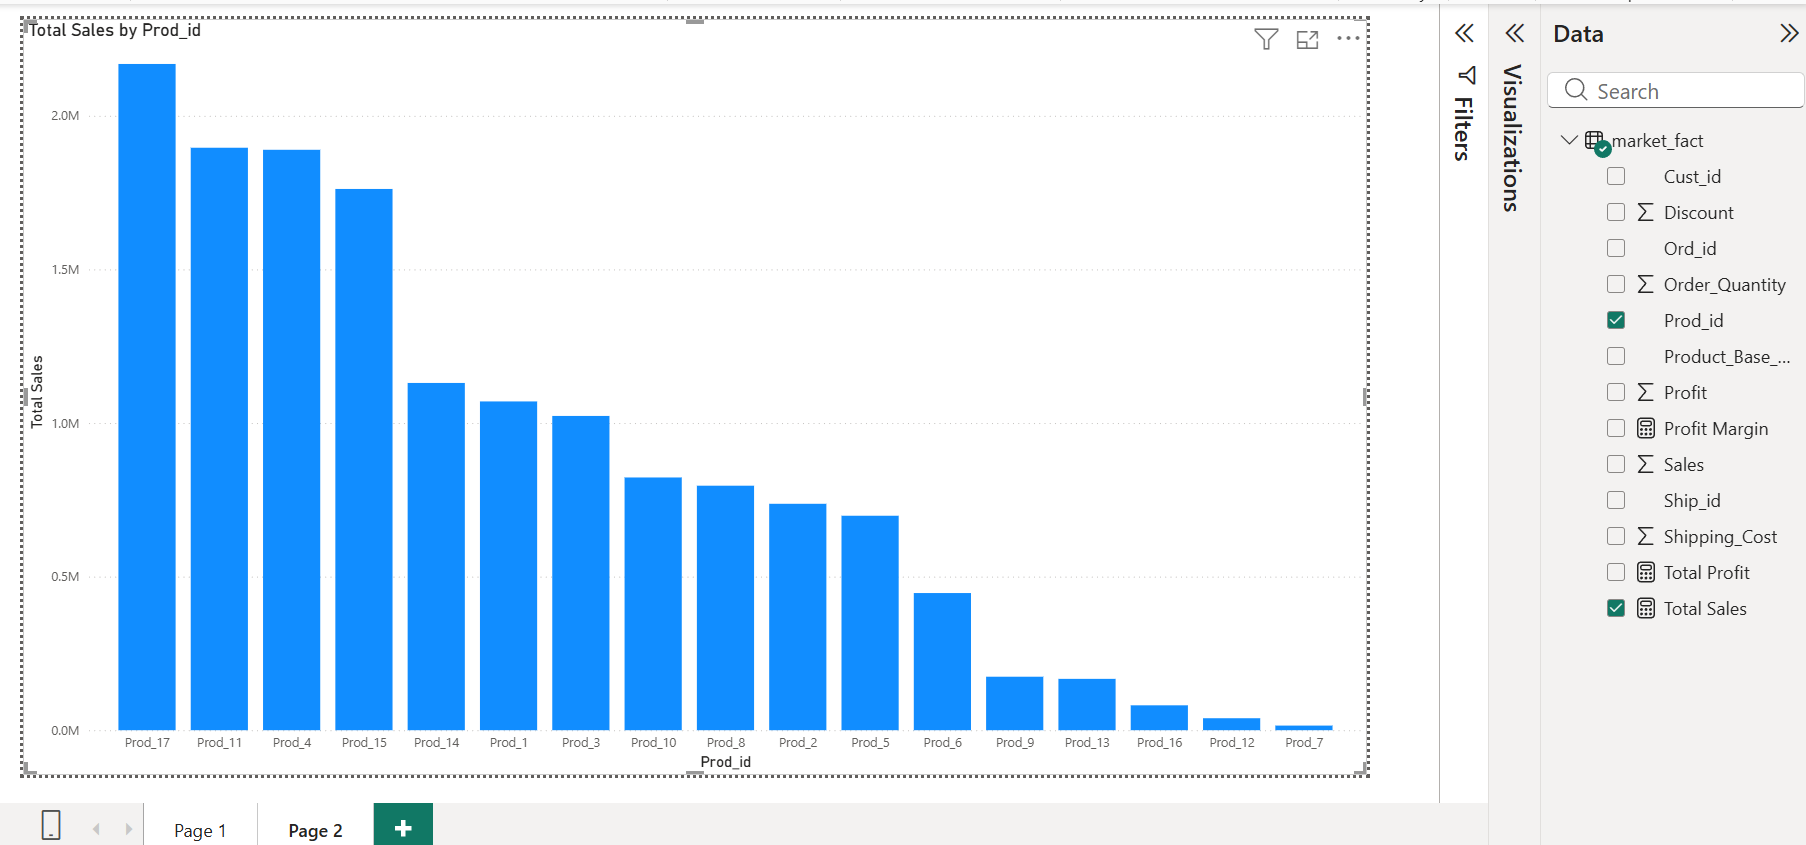

The page's visual inventory and layout, read from the dashboard file:
{"tool":"powerbi","page":{"name":"Page 2","canvas":[1280,720],"ordinal":1},"visuals":[{"type":"columnChart","fields":{"Category":["market_fact.Prod_id"],"Y":["market_fact.Total Sales"]},"box":[0,0,1280,720],"z":0}]}

Visuals, with their boxes on the page's 1280x720 design canvas (x1, y1, x2, y2). These are canvas units, not pixel positions in the 1806x845 screenshot, which may show the page scaled, cropped or inside an application window:
columnChart - market_fact.Prod_id x market_fact.Total Sales: [0,0,1280,720]
